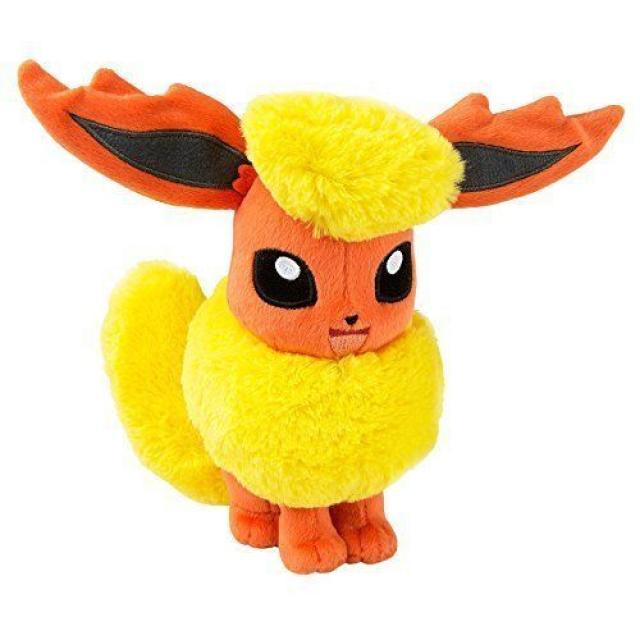Flareon: (141, 79, 495, 566)
